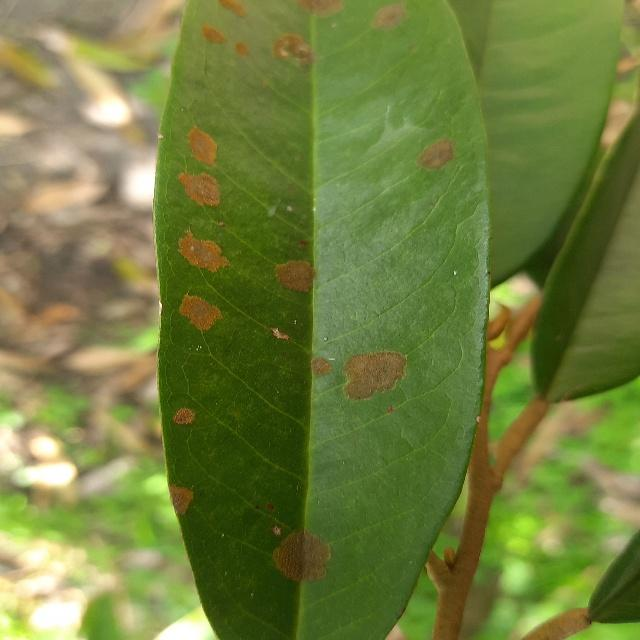Algal Leaf Spot: (151, 0, 501, 640)
